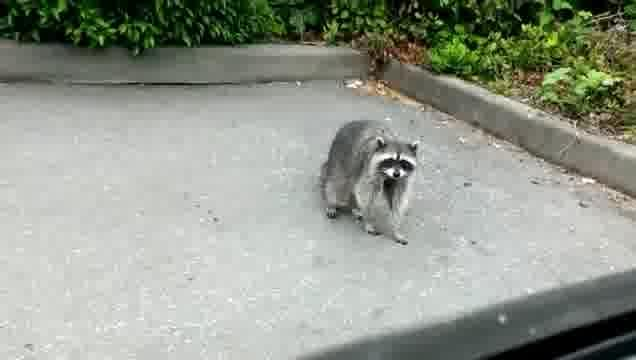raccoon: (320, 117, 421, 246)
